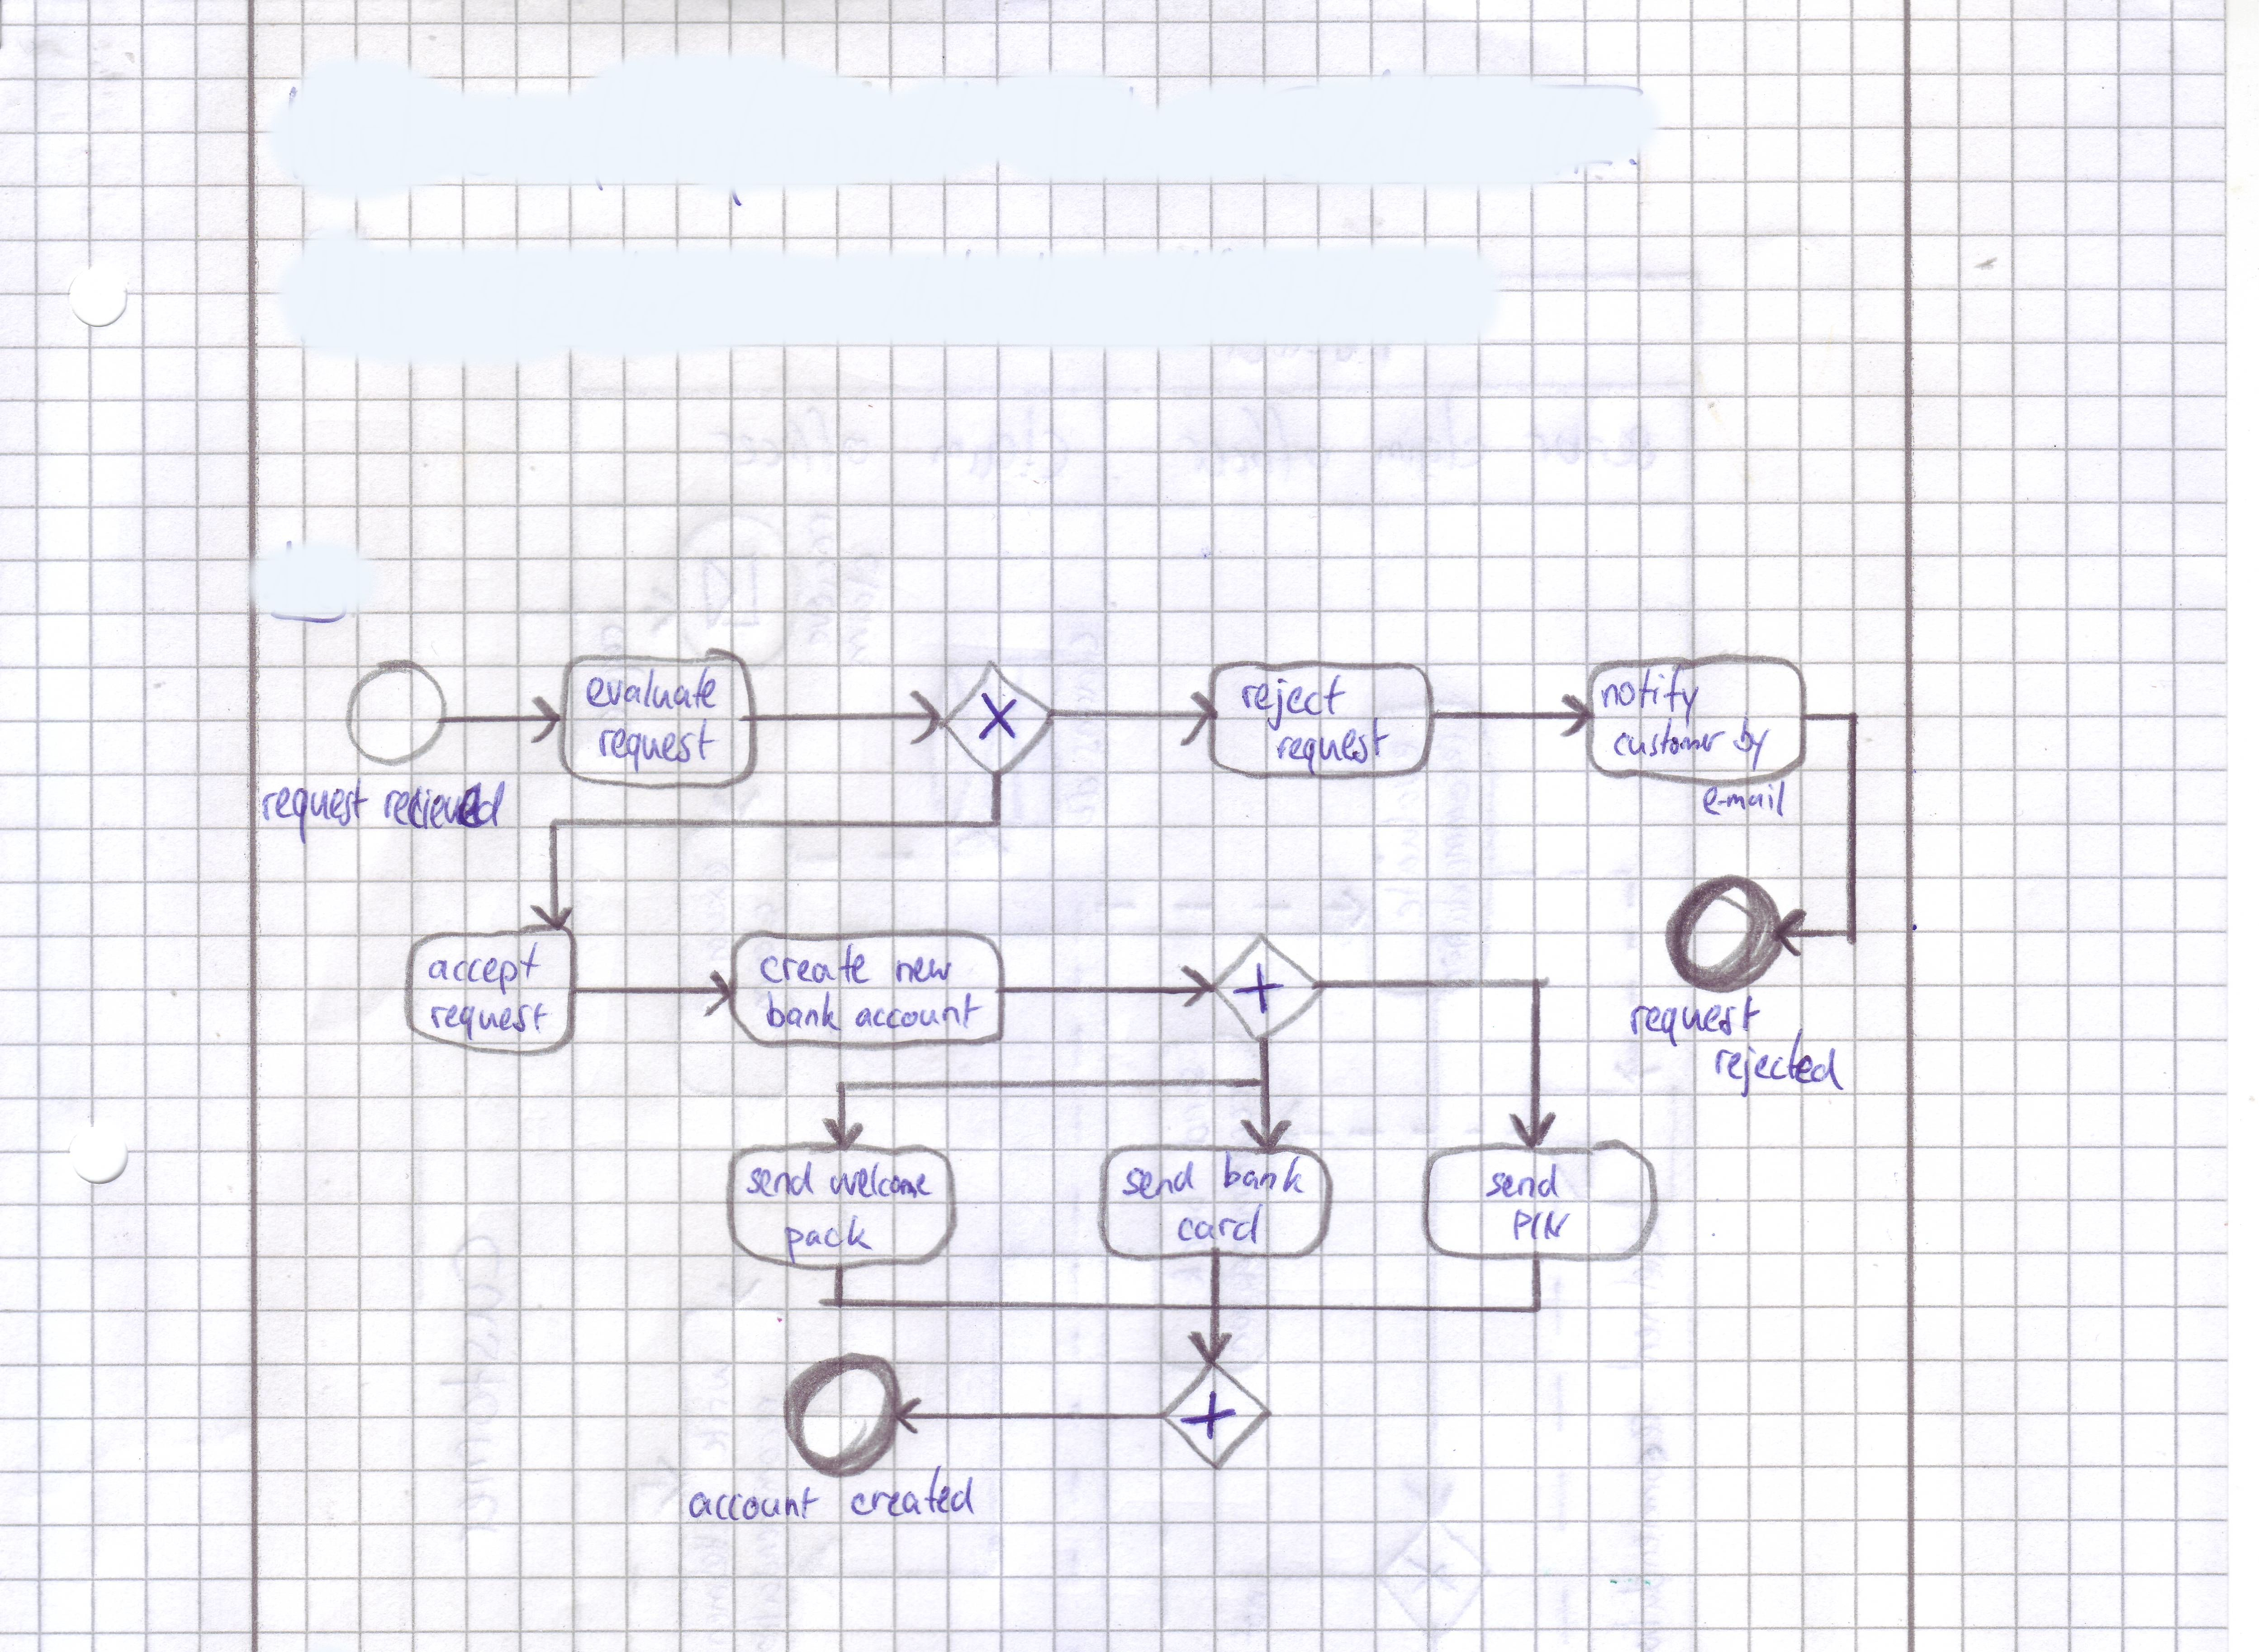PIN: (1510, 1208, 1573, 1243)
accept: (424, 940, 551, 998)
account: (675, 1480, 833, 1524), (852, 993, 986, 1038)
bank: (1212, 1150, 1312, 1200), (759, 989, 847, 1035)
by: (1731, 712, 1780, 775)
card: (1175, 1200, 1275, 1249)
create: (752, 940, 880, 989)
created: (849, 1464, 979, 1520)
customer: (1608, 719, 1728, 765)
e-mail: (1700, 779, 1796, 821)
evaluate: (582, 663, 724, 719)
new: (884, 945, 963, 989)
notify: (1596, 663, 1710, 721)
pack: (782, 1212, 875, 1268)
recieved: (375, 775, 521, 840)
reject: (1221, 666, 1363, 733)
rejected: (1708, 1036, 1854, 1101)
request: (256, 775, 374, 852), (595, 716, 721, 777), (1628, 993, 1768, 1047), (1268, 719, 1398, 775), (424, 1000, 552, 1038)
send: (1114, 1156, 1207, 1203), (1484, 1163, 1568, 1207), (737, 1161, 828, 1200)
welcome: (824, 1159, 940, 1203)
